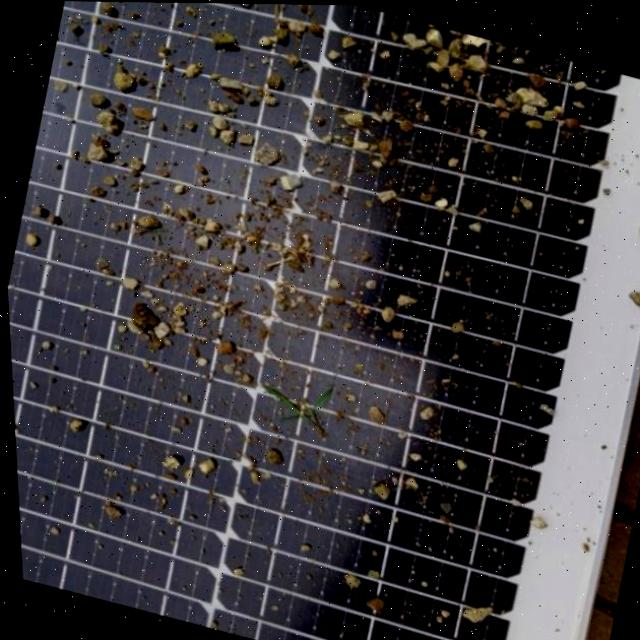Surface Contaminant: (3, 1, 640, 640)
